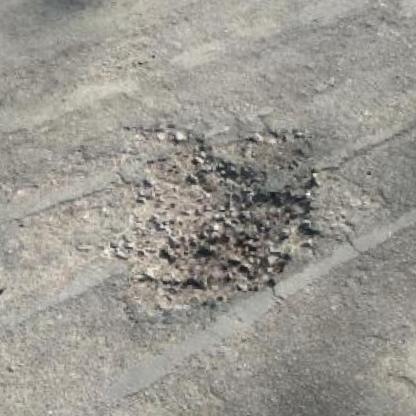pothole: (115, 124, 319, 315)
